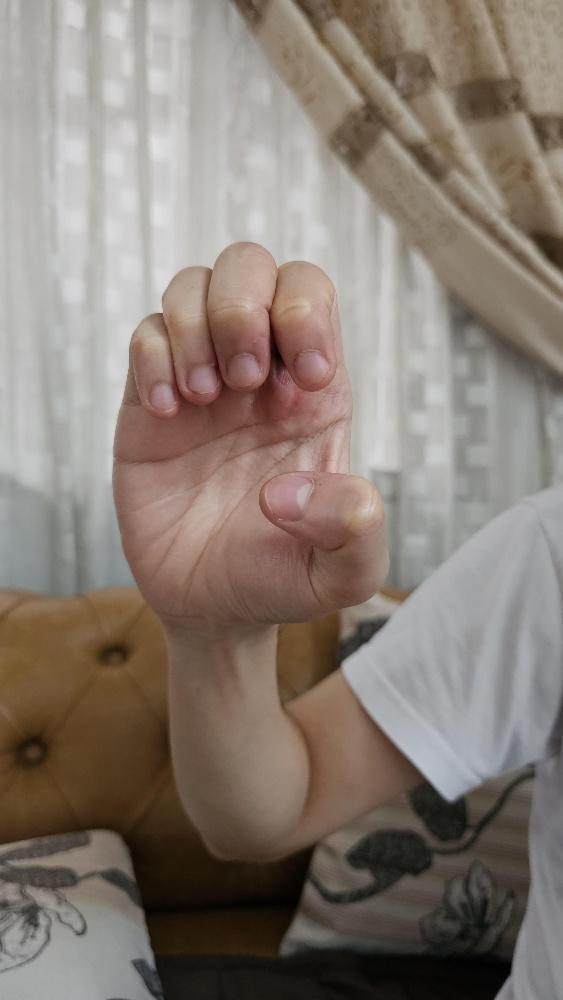e: (109, 236, 393, 625)
